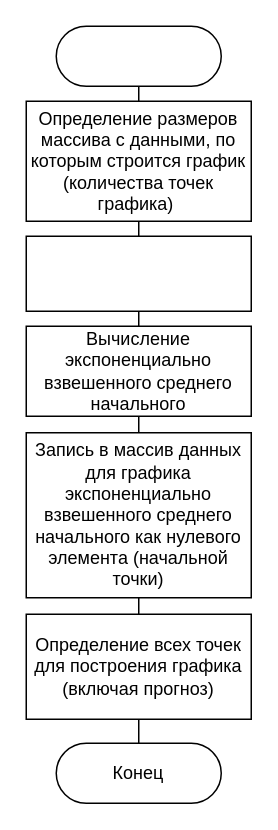
Some shapes in this 278 by 830 pixel diagram are drawn without their labels. The box of each missing label's shape, as (x1, y1, x2, y2) in pixels:
Начало: (55, 25, 221, 86)
Определение коэффициента сглаживания: (25, 235, 251, 311)
